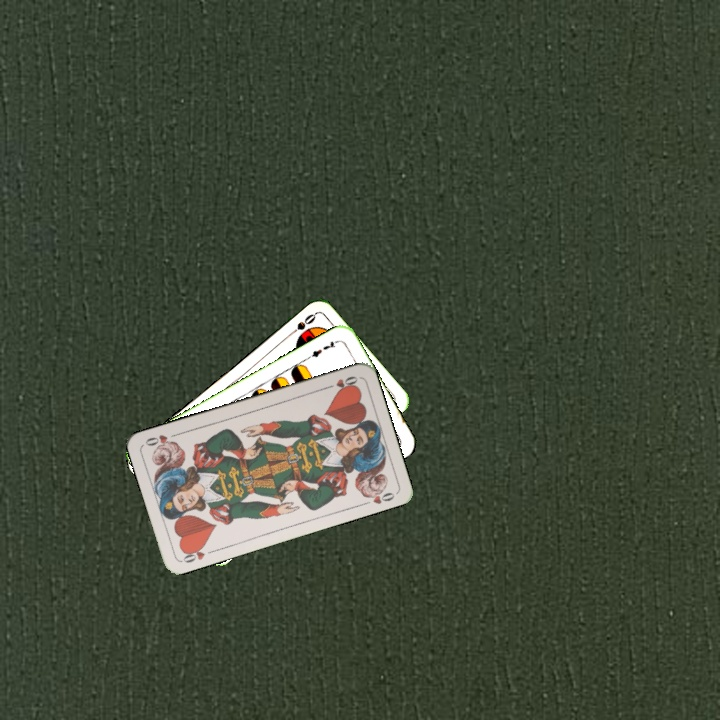E7: (304, 336, 341, 361)
HO: (178, 541, 217, 565), (321, 372, 361, 393)
SO: (284, 310, 318, 340)
